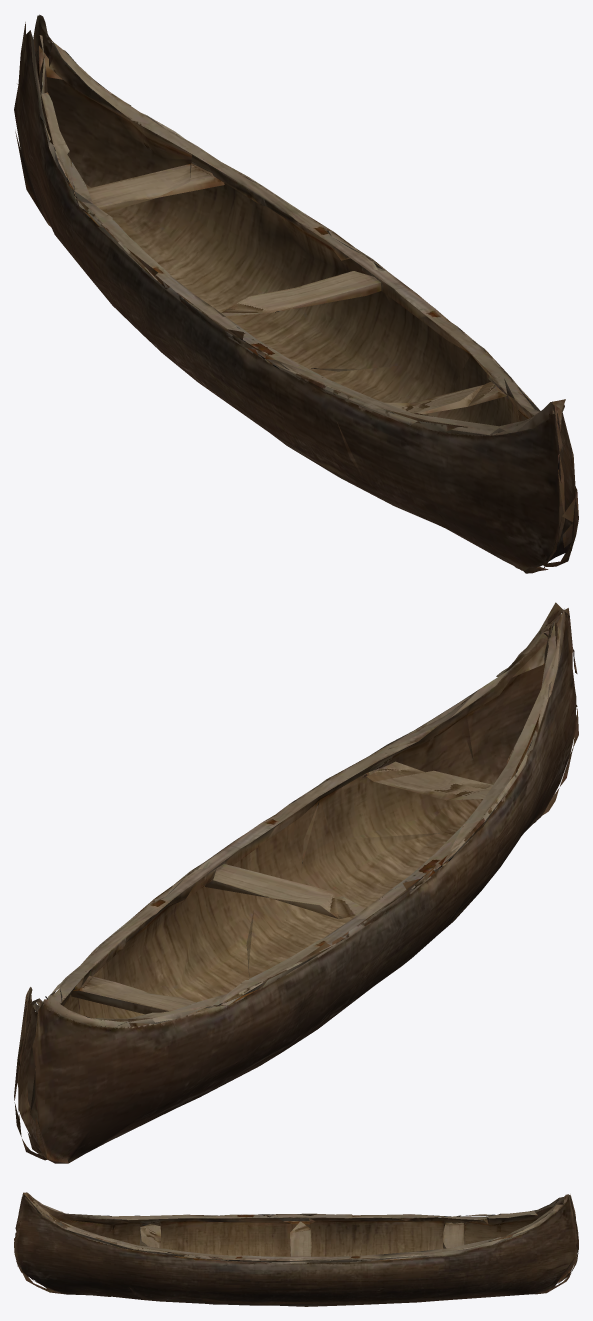
Rendered from canoe.glb.
The picture shows the model from 3 angles, top to bottom: view 1: azimuth 30°, elevation 25°; view 2: azimuth 150°, elevation 25°; view 3: azimuth 270°, elevation 25°; orthographic projection. The views are drawn at different scales.
Visible parts, largest first — view 1: canoe; view 2: canoe; view 3: canoe.
Boxes of the visible parts, box(x1,y1,x2,y2) form: canoe: box(14, 14, 578, 573); canoe: box(14, 602, 578, 1163); canoe: box(14, 1192, 578, 1306).
Size of the model in its own units: 1.02 by 1.01 by 5.
Materials: 1 (1 with a texture image).
